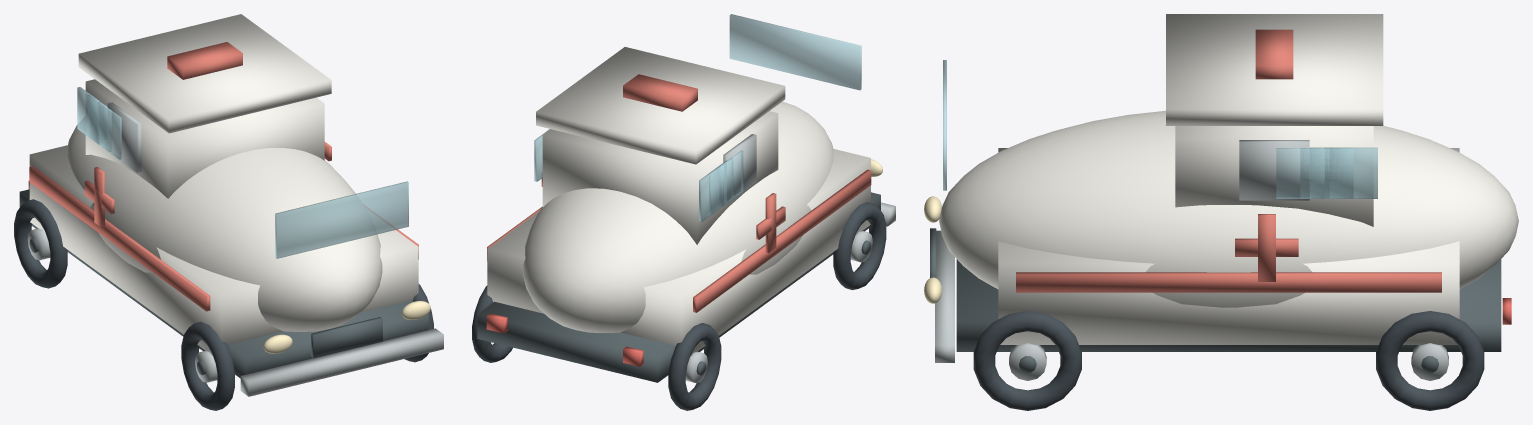
The model's file is ambulance.glb.
3 renders of one model, left to right at view 1: azimuth 30°, elevation 25°; view 2: azimuth 150°, elevation 25°; view 3: azimuth 270°, elevation 25°, orthographic. The views are drawn at different scales.
Parts seen in each view (by area): view 1: ambulance_mat_01_rounded_body, ambulance_mat_06_side_glass_-1_0, ambulance_mat_02_front_bumper, ambulance_mat_08_ambulance_side_stripe_-1, ambulance_mat_00_underbody, ambulance_mat_07_wheel_0, ambulance_mat_03_front_lamp_-0.6324000000000001; view 2: ambulance_mat_01_rounded_body, ambulance_mat_06_side_glass_-1_0, ambulance_mat_00_underbody, ambulance_mat_07_wheel_0, ambulance_mat_08_ambulance_side_stripe_-1, ambulance_mat_02_front_bumper, ambulance_mat_04_tail_lamp_-0.6324000000000001; view 3: ambulance_mat_01_rounded_body, ambulance_mat_08_ambulance_side_stripe_-1, ambulance_mat_07_wheel_0, ambulance_mat_00_underbody, ambulance_mat_02_front_bumper, ambulance_mat_06_side_glass_-1_0, ambulance_mat_03_front_lamp_-0.6324000000000001.
Part boxes in pixels (x1,y1,x2,y2): ambulance_mat_01_rounded_body: (29,14,418,355); ambulance_mat_06_side_glass_-1_0: (77,87,408,258); ambulance_mat_02_front_bumper: (27,102,443,396); ambulance_mat_08_ambulance_side_stripe_-1: (29,42,418,311); ambulance_mat_00_underbody: (19,189,428,378); ambulance_mat_07_wheel_0: (14,199,433,410); ambulance_mat_03_front_lamp_-0.6324000000000001: (263,301,430,353); ambulance_mat_01_rounded_body: (487,47,870,356); ambulance_mat_06_side_glass_-1_0: (534,14,861,221); ambulance_mat_00_underbody: (477,192,880,382); ambulance_mat_07_wheel_0: (472,202,886,410); ambulance_mat_08_ambulance_side_stripe_-1: (487,74,871,312); ambulance_mat_02_front_bumper: (685,134,895,383); ambulance_mat_04_tail_lamp_-0.6324000000000001: (486,313,643,366); ambulance_mat_01_rounded_body: (939,14,1518,344); ambulance_mat_08_ambulance_side_stripe_-1: (1016,29,1441,292); ambulance_mat_07_wheel_0: (973,311,1484,410); ambulance_mat_00_underbody: (930,228,1501,372); ambulance_mat_02_front_bumper: (935,140,1448,380); ambulance_mat_06_side_glass_-1_0: (943,60,1377,198); ambulance_mat_03_front_lamp_-0.6324000000000001: (924,196,942,303).
Size of the model in its own units: 2.02 by 2.22 by 3.92.
